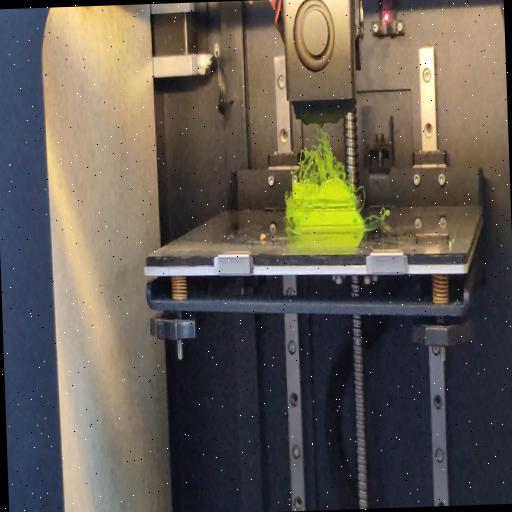spaghetti: (290, 128, 346, 189), (362, 210, 392, 234), (352, 179, 364, 218), (284, 224, 296, 236)
